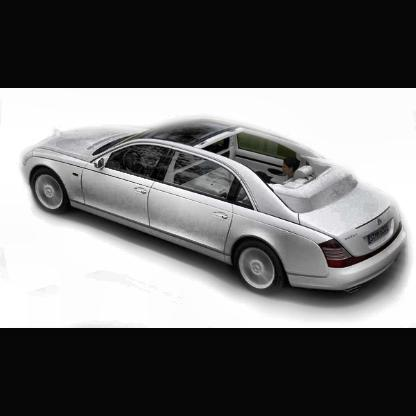Maybach Landaulet Convertible 2012: (20, 117, 409, 296)
